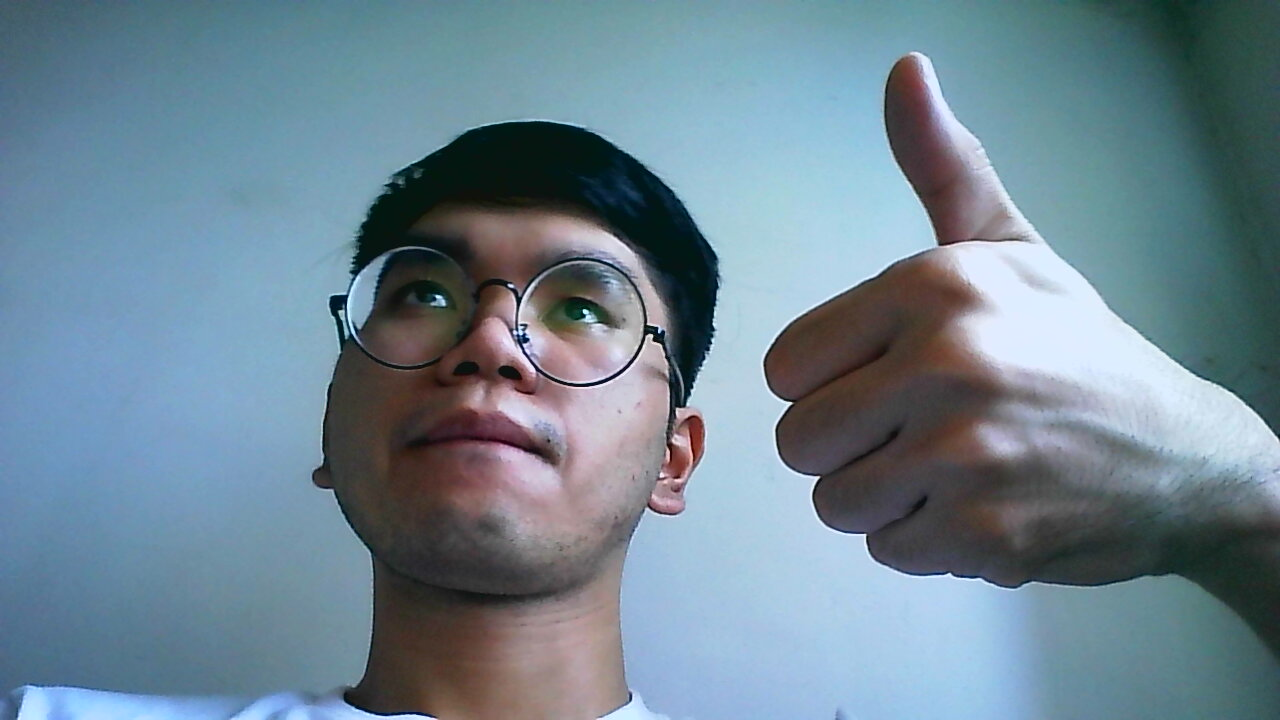thumbs: (765, 50, 1174, 588)
